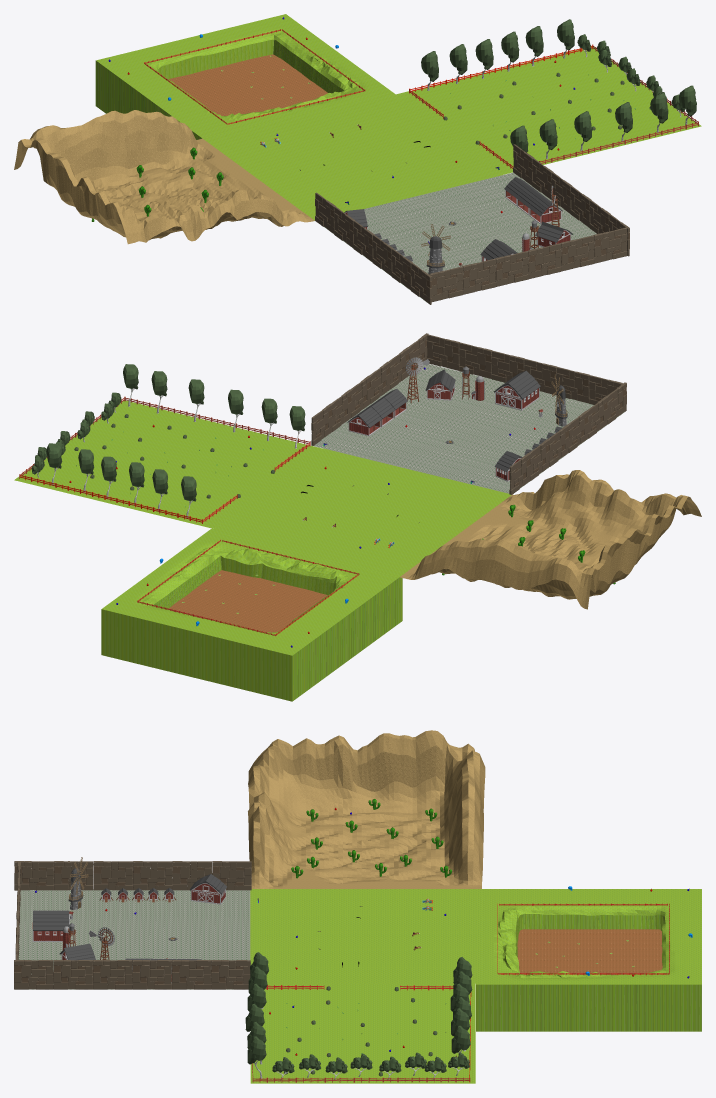
3 views of the same model, one above another, from view 1: azimuth 30°, elevation 25°; view 2: azimuth 150°, elevation 25°; view 3: azimuth 270°, elevation 25° (orthographic). The views are drawn at different scales.
Parts seen in each view (by area): view 1: dessert, ground, forest, lakeGround, village, lake, Wall_Modular_Cube.001, Buildings, Wall_Modular_Cube.005, Wall_Modular_Cube.000, Fence.000, Fence.001; view 2: lakeGround, ground, dessert, forest, village, lake, Buildings, Wall_Modular_Cube.001, Wall_Modular_Cube.005, Wall_Modular_Cube.000, Fence.000, Fence.001; view 3: dessert, lakeGround, ground, forest, village, Wall_Modular_Cube.000, Wall_Modular_Cube.005, lake, Buildings, Fence.002.
Boxes of the visible parts, <box> form: dessert: <box>14,110,314,244</box>; ground: <box>203,92,502,220</box>; forest: <box>394,46,701,174</box>; lakeGround: <box>95,14,395,139</box>; village: <box>323,172,596,302</box>; lake: <box>168,54,327,115</box>; Wall_Modular_Cube.001: <box>429,227,627,301</box>; Buildings: <box>344,177,572,273</box>; Wall_Modular_Cube.005: <box>315,192,432,304</box>; Wall_Modular_Cube.000: <box>513,144,629,256</box>; Fence.000: <box>409,44,593,92</box>; Fence.001: <box>539,121,698,163</box>; lakeGround: <box>101,528,402,701</box>; ground: <box>211,448,511,577</box>; dessert: <box>400,470,701,609</box>; forest: <box>14,400,322,528</box>; village: <box>314,364,623,493</box>; lake: <box>168,570,327,632</box>; Buildings: <box>347,357,567,481</box>; Wall_Modular_Cube.001: <box>426,334,622,404</box>; Wall_Modular_Cube.005: <box>509,382,626,494</box>; Wall_Modular_Cube.000: <box>311,333,428,445</box>; Fence.000: <box>20,475,202,523</box>; Fence.001: <box>125,396,310,445</box>; dessert: <box>248,730,485,888</box>; lakeGround: <box>476,889,701,1031</box>; ground: <box>250,889,481,983</box>; forest: <box>250,983,475,1083</box>; village: <box>18,889,250,989</box>; Wall_Modular_Cube.000: <box>14,960,250,989</box>; Wall_Modular_Cube.005: <box>14,861,251,890</box>; lake: <box>517,929,662,974</box>; Buildings: <box>32,857,226,982</box>; Fence.002: <box>252,1077,470,1082</box>.
Bounding box in the file's own units: 303 × 54 × 304.
452 materials, 19 textured.
